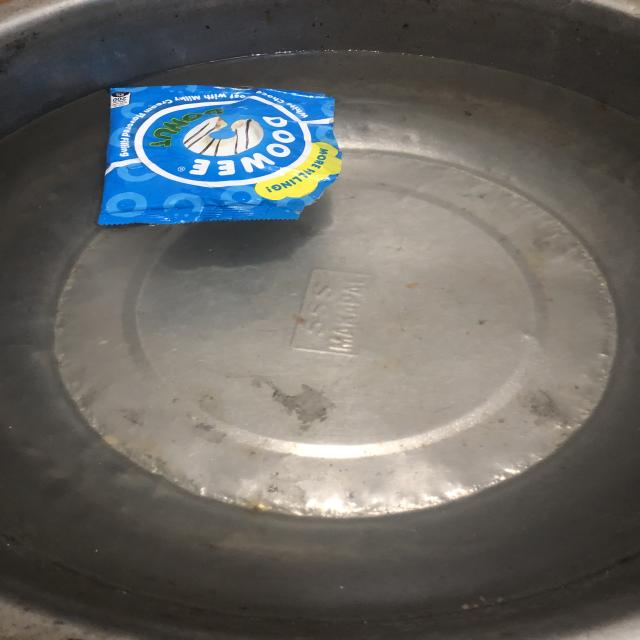Plastic Wrapper: (81, 68, 351, 230)
